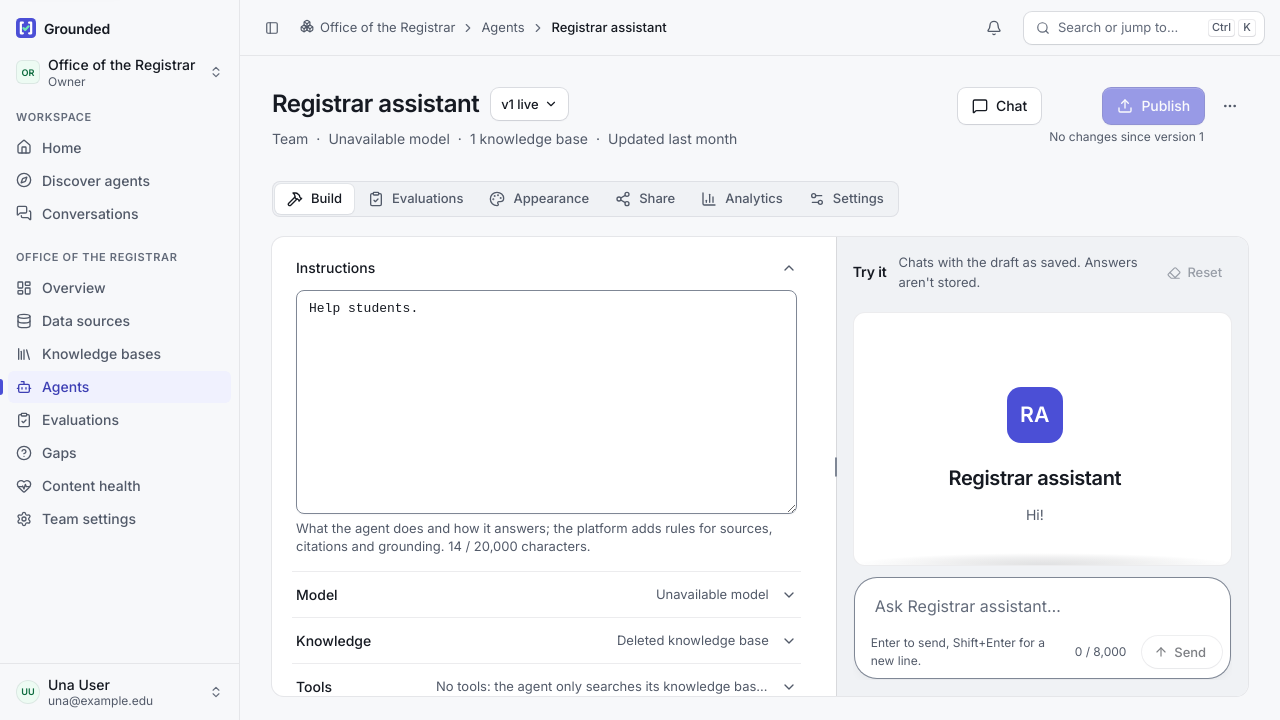
Test: the agent editor's tabs and version menu (I6) › shows Revert disabled with the reason while the draft matches the live version, and says live once
Click the button "v1 live": [530, 104] box [491,88,568,120]
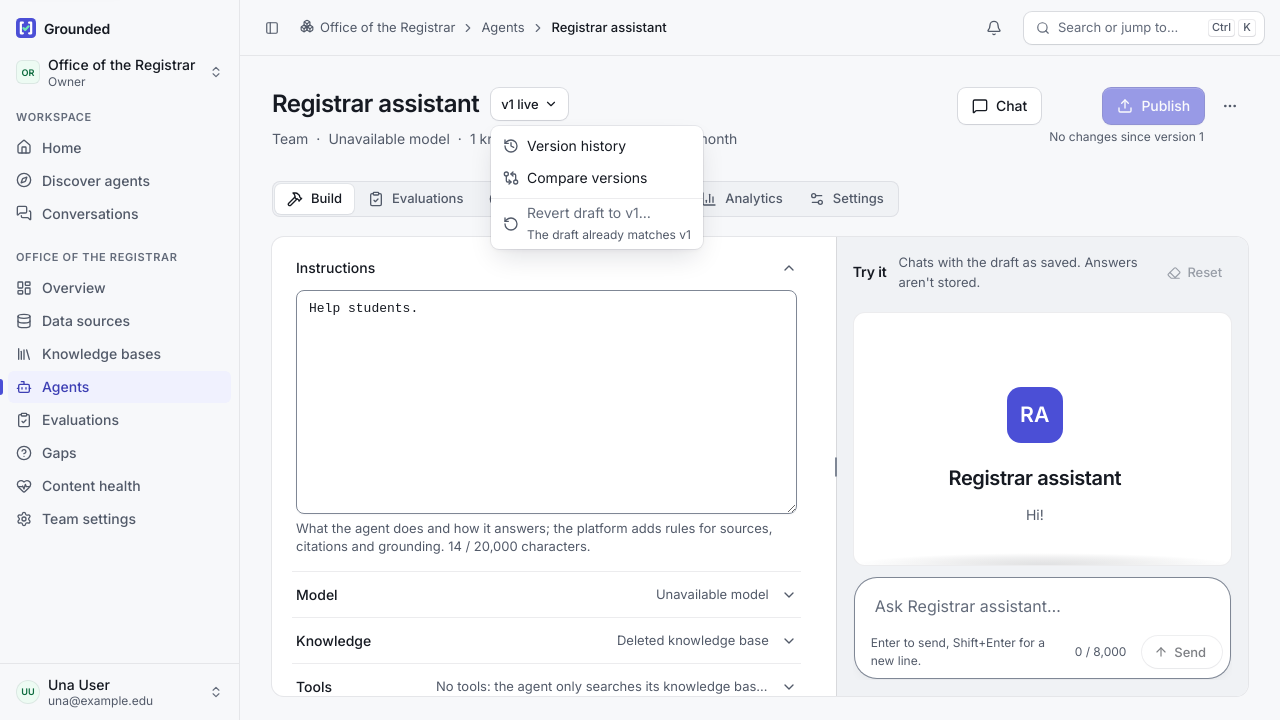
Expected: the menu item "Revert draft to v1… The draft already matches v1" is shown, [495,203,699,245]
